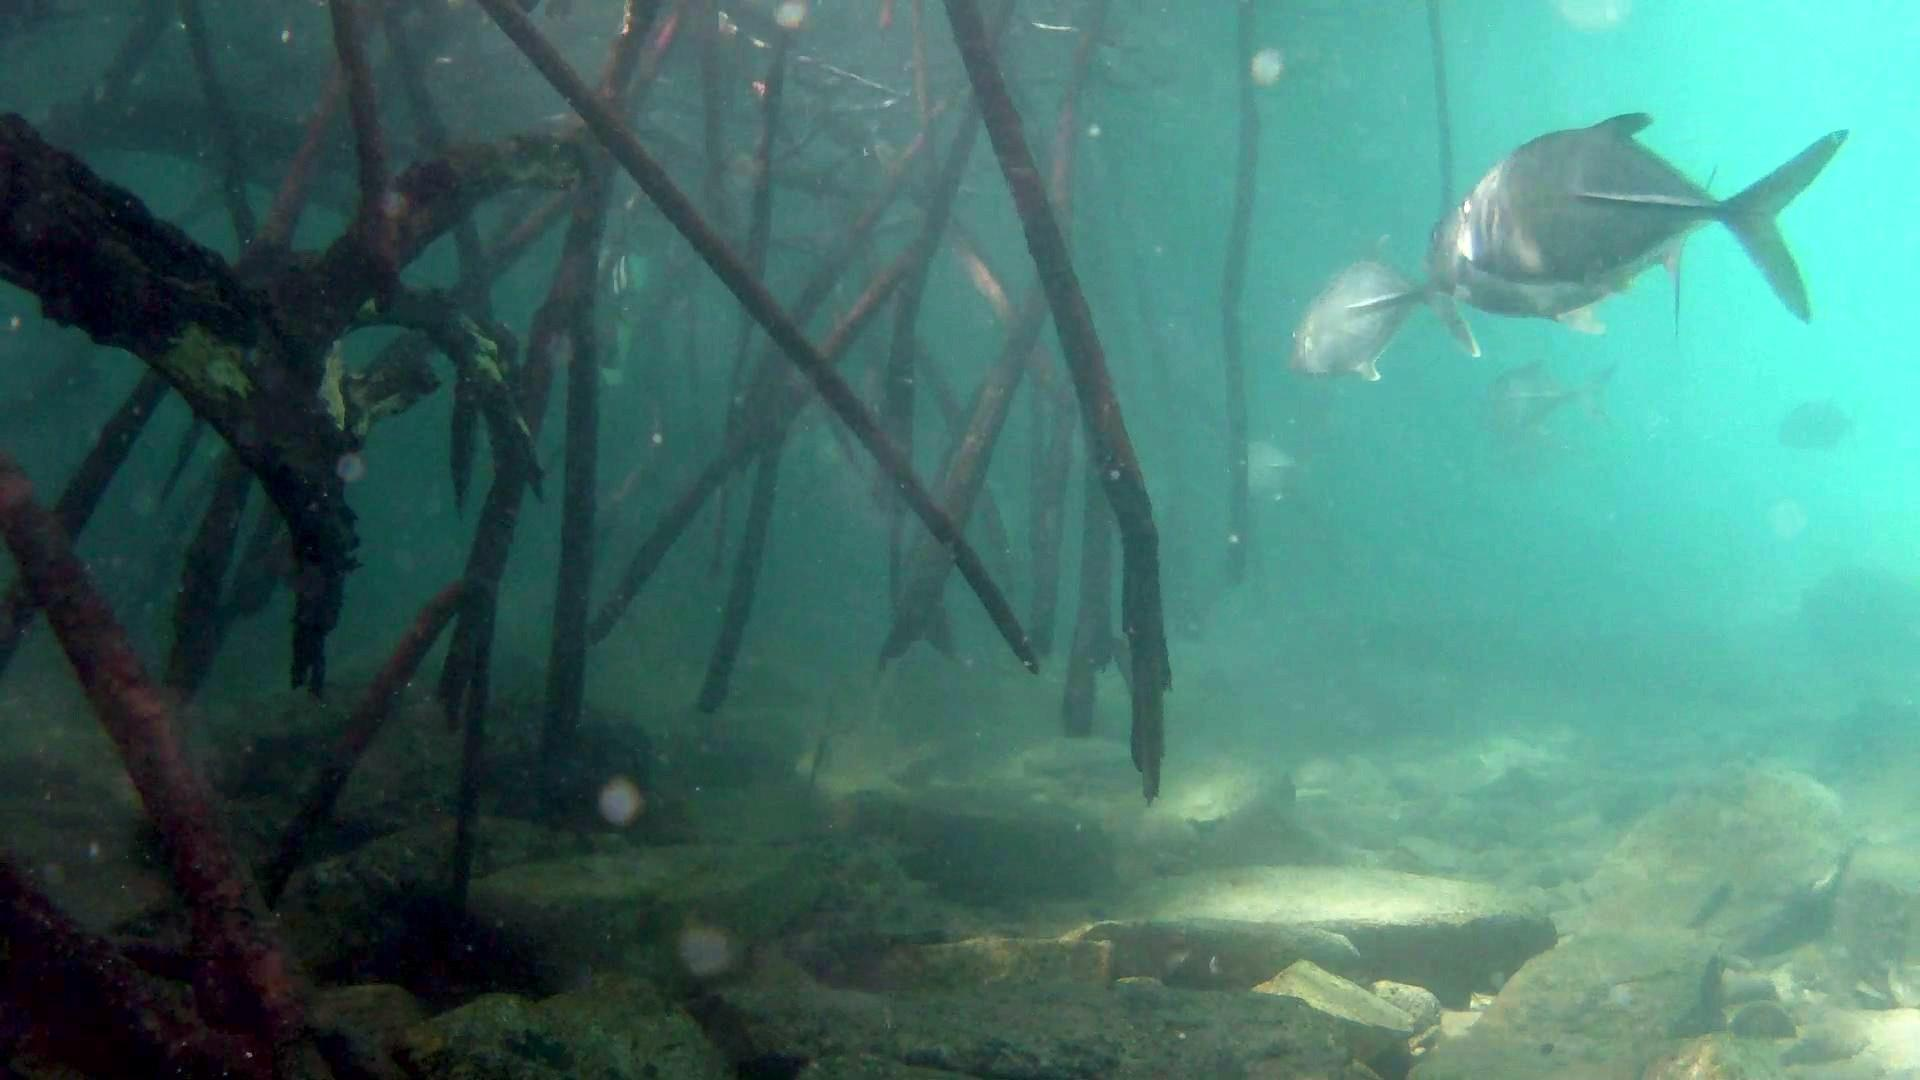caranx: (1436, 106, 1856, 339)
